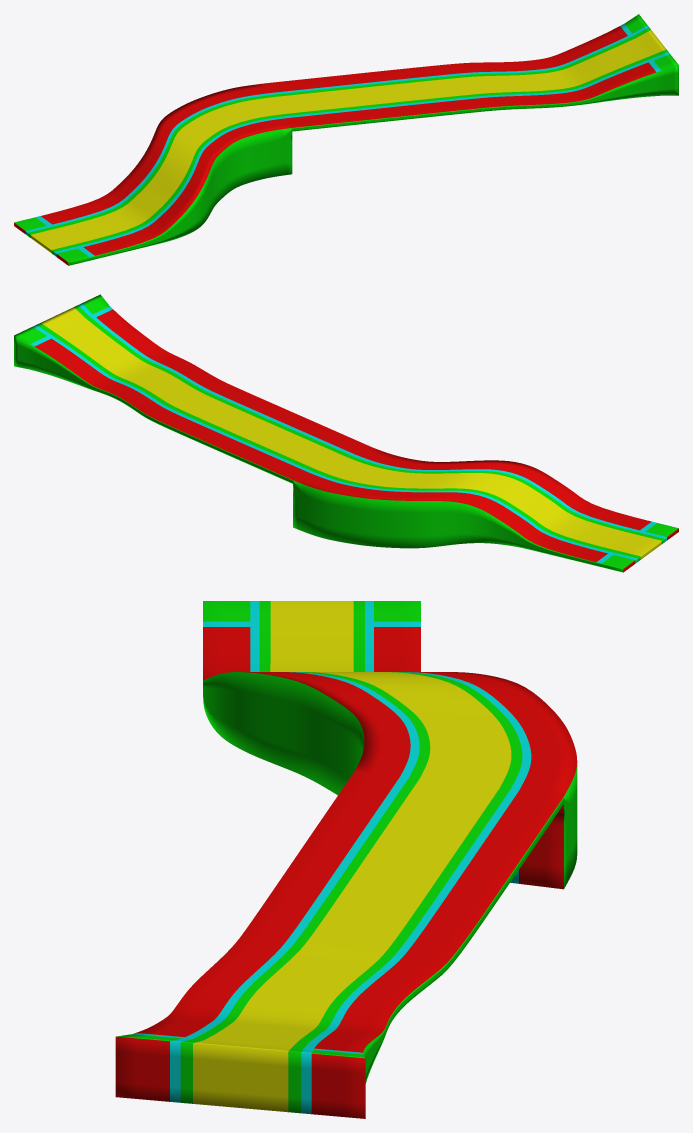
Rendered from Entrance_Floor.fbx.
3 renders of one model, top to bottom at view 1: azimuth 30°, elevation 25°; view 2: azimuth 150°, elevation 25°; view 3: azimuth 270°, elevation 25°, orthographic. The views are drawn at different scales.
Visible parts, largest first — view 1: Entrance_Floor; view 2: Entrance_Floor; view 3: Entrance_Floor.
Part boxes in pixels (box(x1,y1,x2,y2)): Entrance_Floor: box(14, 14, 678, 265); Entrance_Floor: box(14, 294, 678, 572); Entrance_Floor: box(115, 601, 577, 1118).
Bounding box in the file's own units: 3715 × 425 × 1215.
